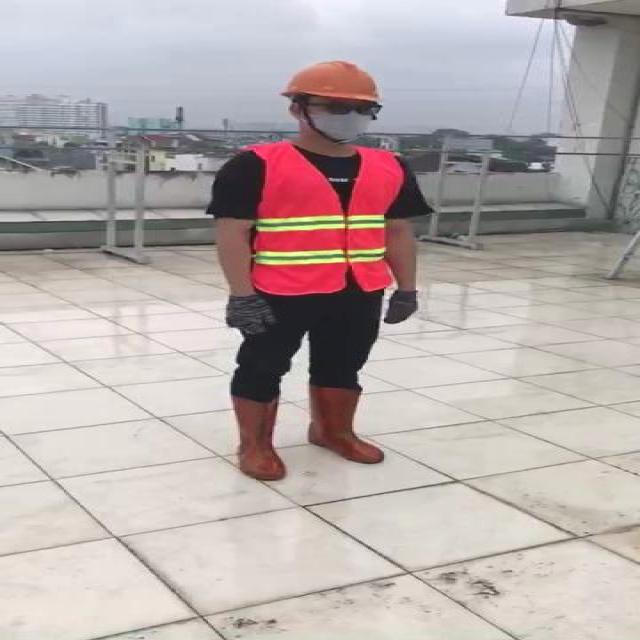boots: (308, 388, 386, 463), (231, 394, 286, 484)
face_mask: (308, 97, 384, 143)
glasses: (319, 98, 389, 120)
hand_glove: (220, 295, 276, 340), (380, 290, 418, 324)
head_helmet: (277, 59, 383, 103)
person: (203, 59, 433, 490)
vest: (251, 144, 400, 296)
